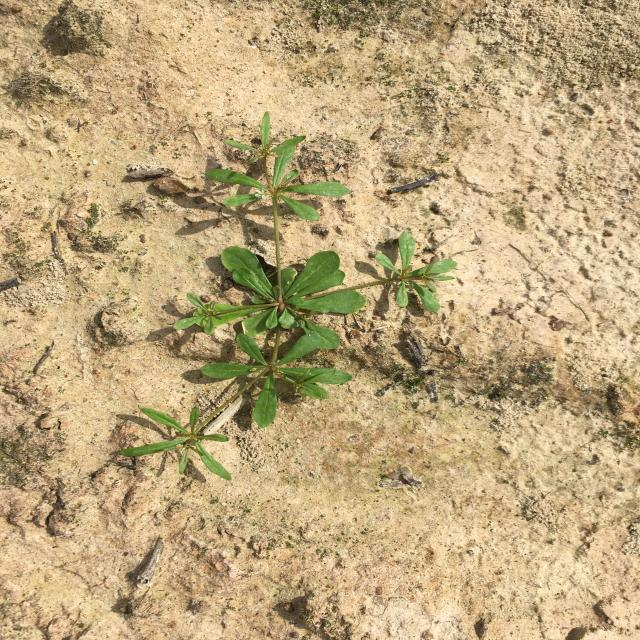Carpetweed: (119, 111, 458, 481)
